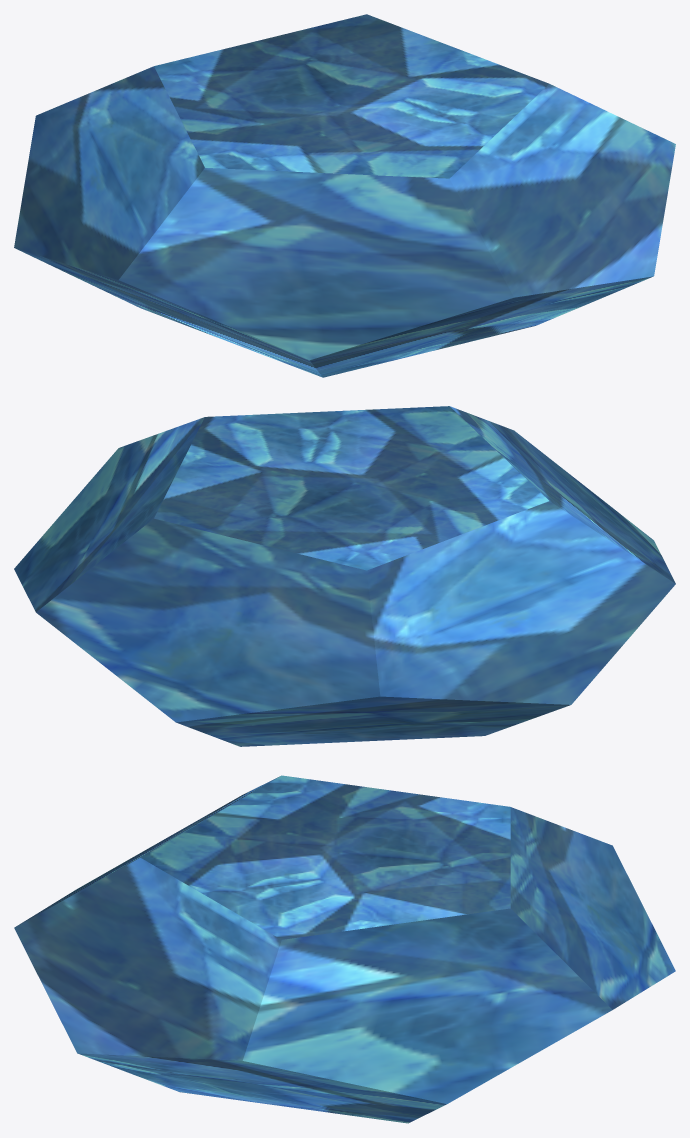
The model's file is p2_diamond1.fbx.
3 renders of one model, top to bottom at view 1: azimuth 30°, elevation 25°; view 2: azimuth 150°, elevation 25°; view 3: azimuth 270°, elevation 25°, orthographic. The views are drawn at different scales.
Parts seen in each view (by area): view 1: dodecahedron; view 2: dodecahedron; view 3: dodecahedron.
Part boxes in pixels (x1,y1,x2,y2): dodecahedron: (14, 14, 675, 377); dodecahedron: (14, 406, 675, 746); dodecahedron: (14, 775, 675, 1123).
Size of the model in its own units: 198 by 63.79 by 208.
